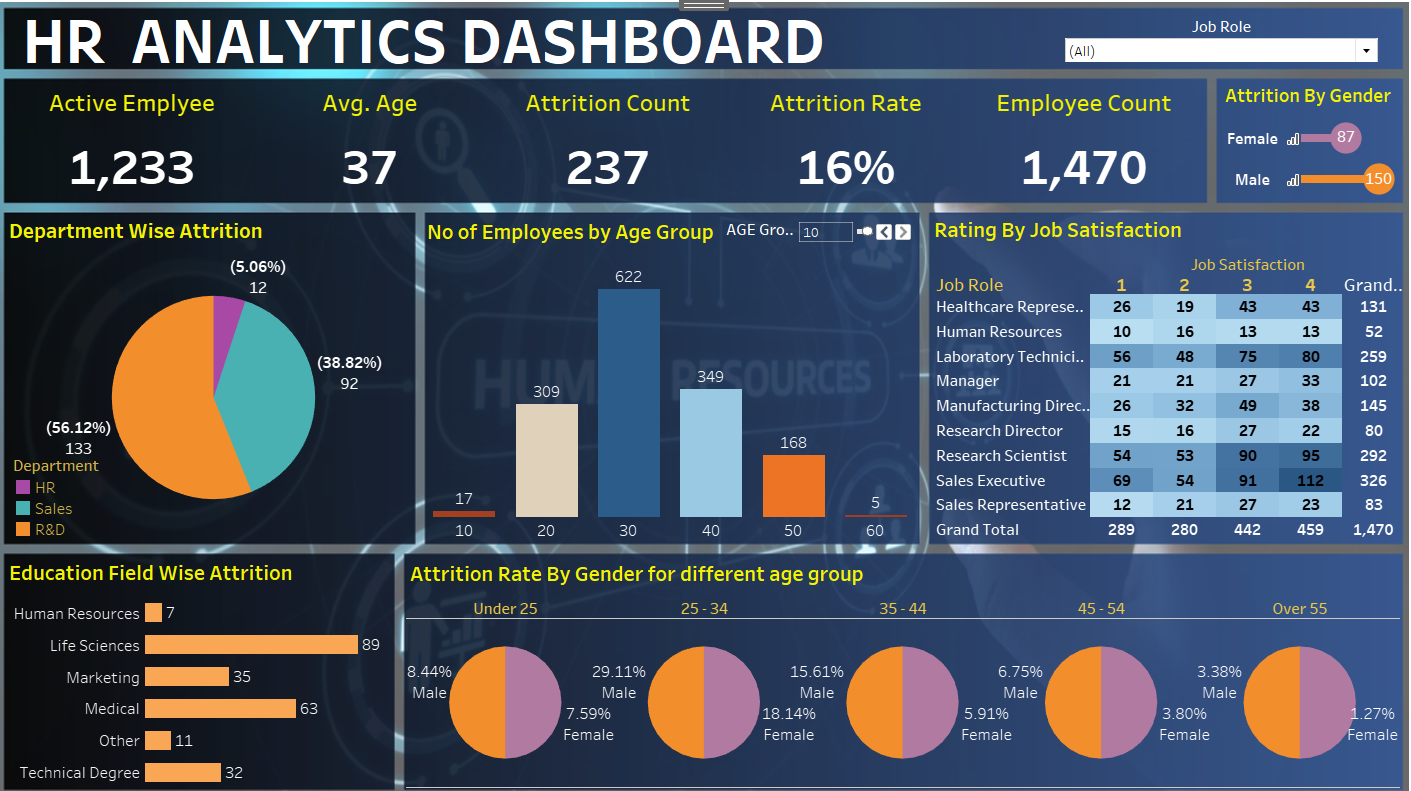

This screenshot's page, from the dashboard's own definition file:
{"tool":"tableau","page":{"name":"HR Analytics Dashboard","canvas":[1000,1000],"units":"permille","ordinal":0},"visuals":[{"type":"image","param":"C:/Users/asus/OneDrive/Desktop/Work/Tableau Project/HR background.pptx.png","box":[0,0,1000,1000]},{"type":"text","box":[66.5,16.2,670.2,68.6]},{"type":"filter","title":"Rating By Job Satisfaction","param":"[federated.06sowmh1xiqc7z12ry5vw19ig6t9].[none:Job Role:nk]","box":[726.6,22.4,201.9,57.4]},{"type":"worksheet","title":"Attrition By Gender","mark":"Automatic","rows":["Gender"],"cols":["Calculation_675821456887545857","Calculation_675821456887545857"],"box":[827.2,99.8,112.7,150.9]},{"type":"worksheet","title":"KPI","mark":"Automatic","box":[62.7,107.2,753.2,157.1]},{"type":"worksheet","title":"Rating By Job Satisfaction","mark":"Square","rows":["Job Role"],"cols":["Job Satisfaction"],"box":[643,265.6,300.6,412.7]},{"type":"worksheet","title":"Department Wise Attrition","mark":"Pie","box":[57.6,266.8,263.9,410.2]},{"type":"worksheet","title":"No of Employees by Age Group","mark":"Automatic","rows":["Employee Count"],"cols":["Age (bin)"],"box":[322.2,268.1,312.7,410.2]},{"type":"parameter","param":"[Parameters].[Parameter 1]","box":[512.7,275.6,120.2,38.6]},{"type":"legend","title":"Department Wise Attrition","param":"[federated.06sowmh1xiqc7z12ry5vw19ig6t9].[none:Department:nk]","box":[62.7,569.8,75.3,108.5]},{"type":"worksheet","title":"Education Field Wise Attrition","mark":"Automatic","rows":["Education Field"],"cols":["Calculation_675821456887545857"],"box":[57.6,693.3,247.5,291.8]},{"type":"worksheet","title":"Attrition Rate By Gender for different age group","mark":"Pie","cols":["CF_age band"],"box":[311.4,694.5,629.8,290.5]}]}

Visuals, with their boxes on the dashboard's canvas, which has no fixed pixel size, in thousandths of its width and height (x1, y1, x2, y2). These are canvas units, not pixel positions in the 1411x791 screenshot, which may show the page scaled, cropped or inside an application window:
image: select_region(0, 0, 1000, 1000)
text: select_region(66, 16, 737, 85)
"Rating By Job Satisfaction" filter: select_region(727, 22, 928, 80)
"Attrition By Gender" worksheet: select_region(827, 100, 940, 251)
"KPI" worksheet: select_region(63, 107, 816, 264)
"Rating By Job Satisfaction" worksheet (Square marks): select_region(643, 266, 944, 678)
"Department Wise Attrition" worksheet (Pie marks): select_region(58, 267, 322, 677)
"No of Employees by Age Group" worksheet: select_region(322, 268, 635, 678)
parameter: select_region(513, 276, 633, 314)
"Department Wise Attrition" legend: select_region(63, 570, 138, 678)
"Education Field Wise Attrition" worksheet: select_region(58, 693, 305, 985)
"Attrition Rate By Gender for different age group" worksheet (Pie marks): select_region(311, 694, 941, 985)
